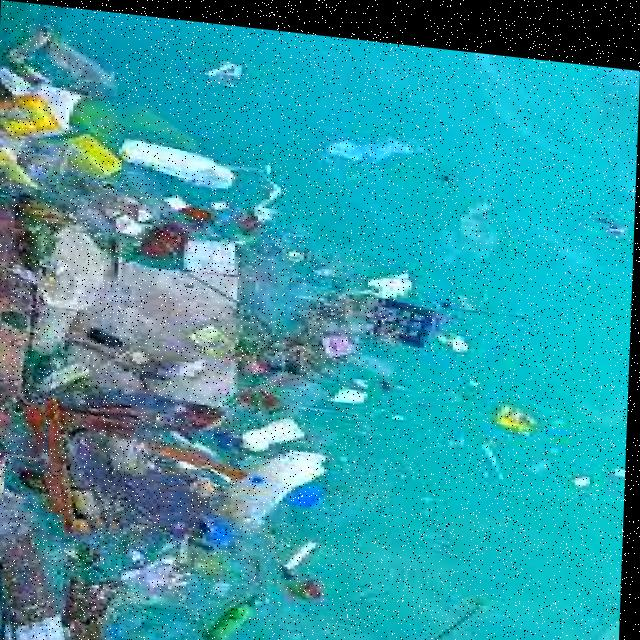mask: (121, 125, 266, 197)
plasticbottle: (212, 432, 343, 520), (190, 574, 284, 640), (278, 524, 350, 577)
wood: (5, 391, 133, 546), (0, 226, 57, 458), (0, 506, 67, 640), (73, 583, 146, 640)
